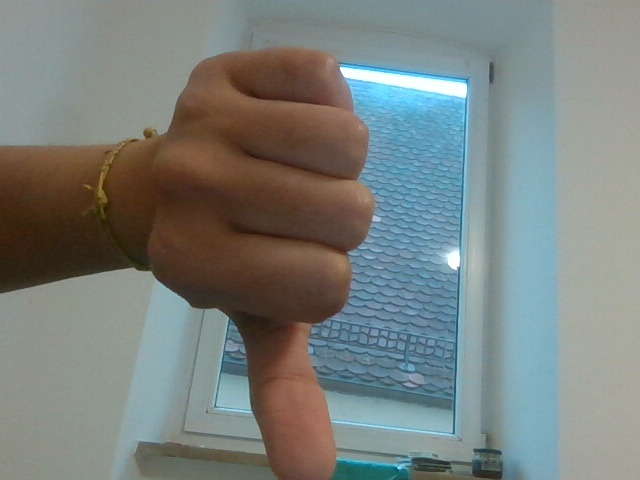Thumbs down: (127, 38, 463, 480)
